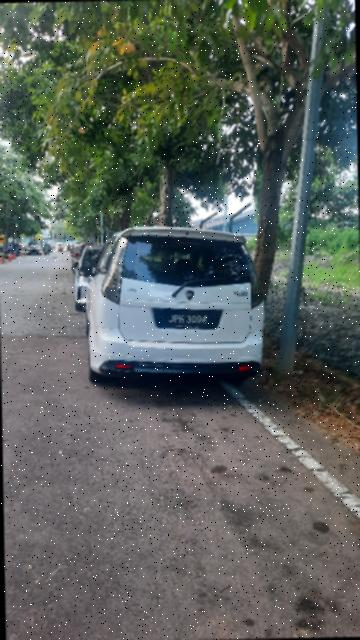License_Plate: (151, 307, 226, 333)
car: (78, 225, 268, 387)
